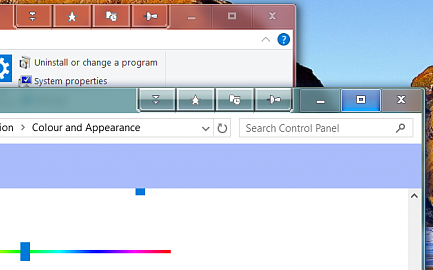close: (252, 4, 294, 29), (381, 88, 423, 112)
